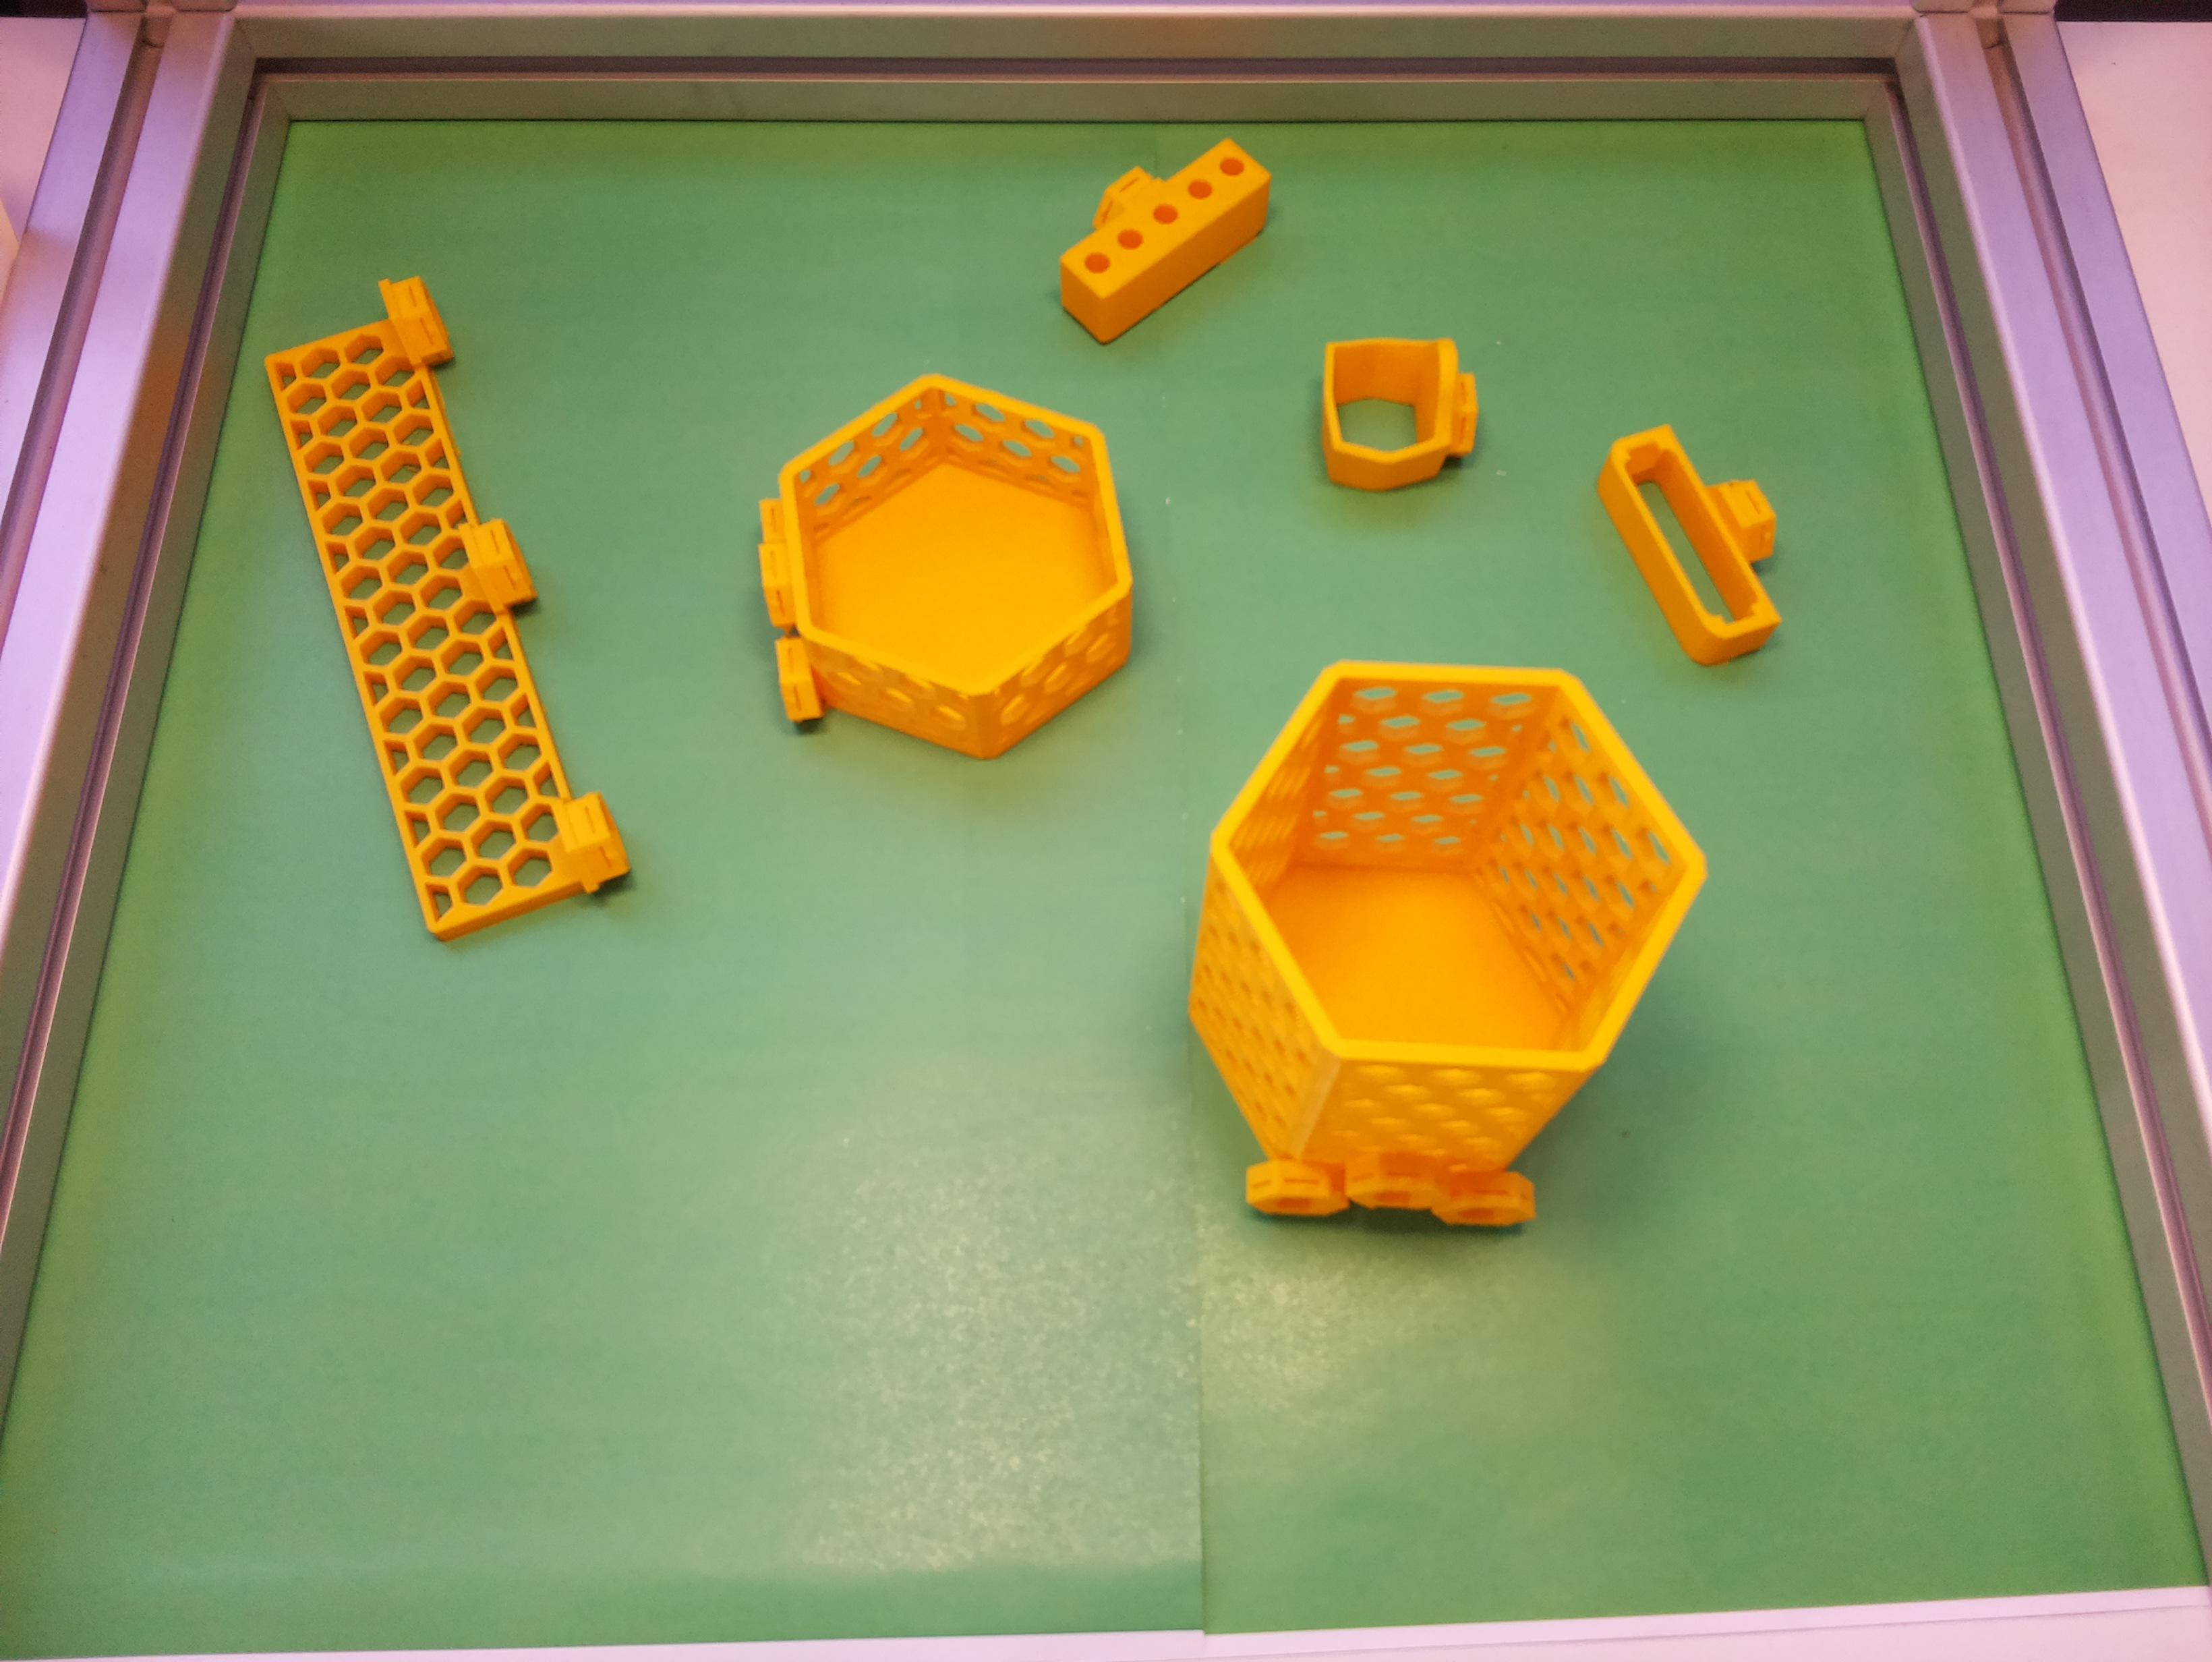bit_holder: (1023, 106, 1294, 351)
bottle_holder: (728, 346, 1161, 794)
cup_holder: (1072, 564, 1758, 1322)
cutter_holder: (1582, 393, 1824, 681)
scissor_holder: (1322, 339, 1477, 491)
tool_holder: (229, 265, 634, 946)
